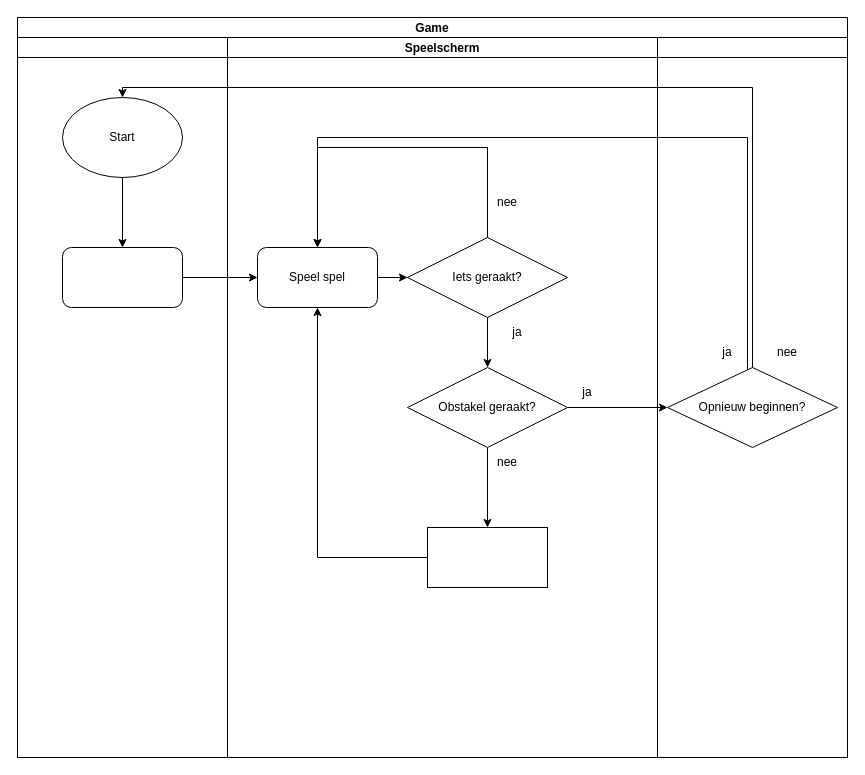
Some shapes in this 865 by 775 pixel diagram are drawn without their labels. Here are the shapes that lost their labels. From the top down, the box of each, then its label:
(62, 246, 182, 308): Spel beginnen
(16, 36, 228, 758): Startscherm
(656, 36, 848, 758): Eindscherm
(426, 526, 548, 588): Score omhoog
